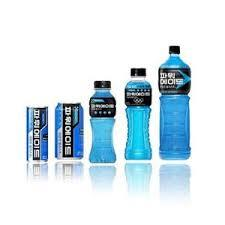powerade_mountainblast: (125, 64, 154, 163)
